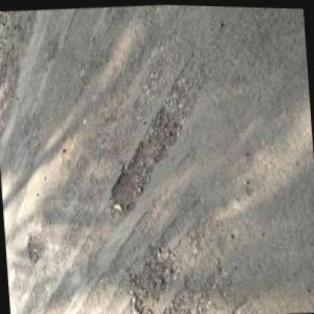Hueco: (102, 103, 190, 223), (123, 240, 186, 313), (24, 228, 51, 265), (160, 286, 196, 313)
